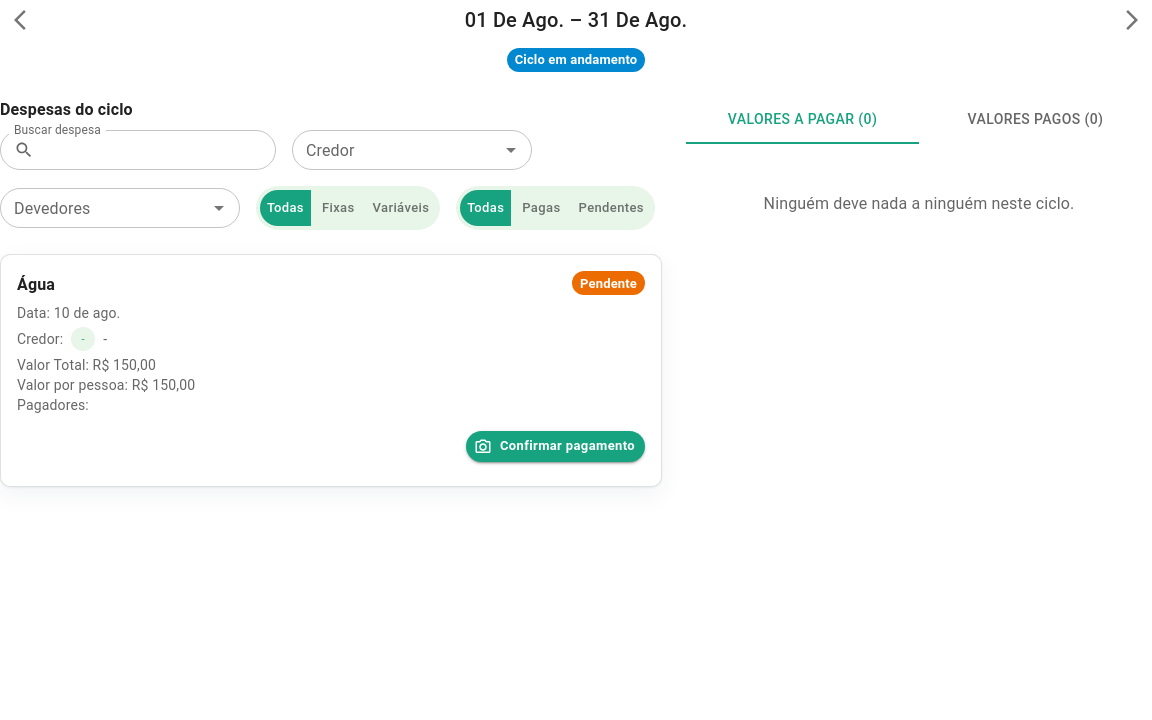
Payments › lets the creditor confirm with only a note and posts it as JSON
This screenshot has width=1152, height=720.
Click the button "Confirmar pagamento" at (555, 447), box [466,431,645,462]
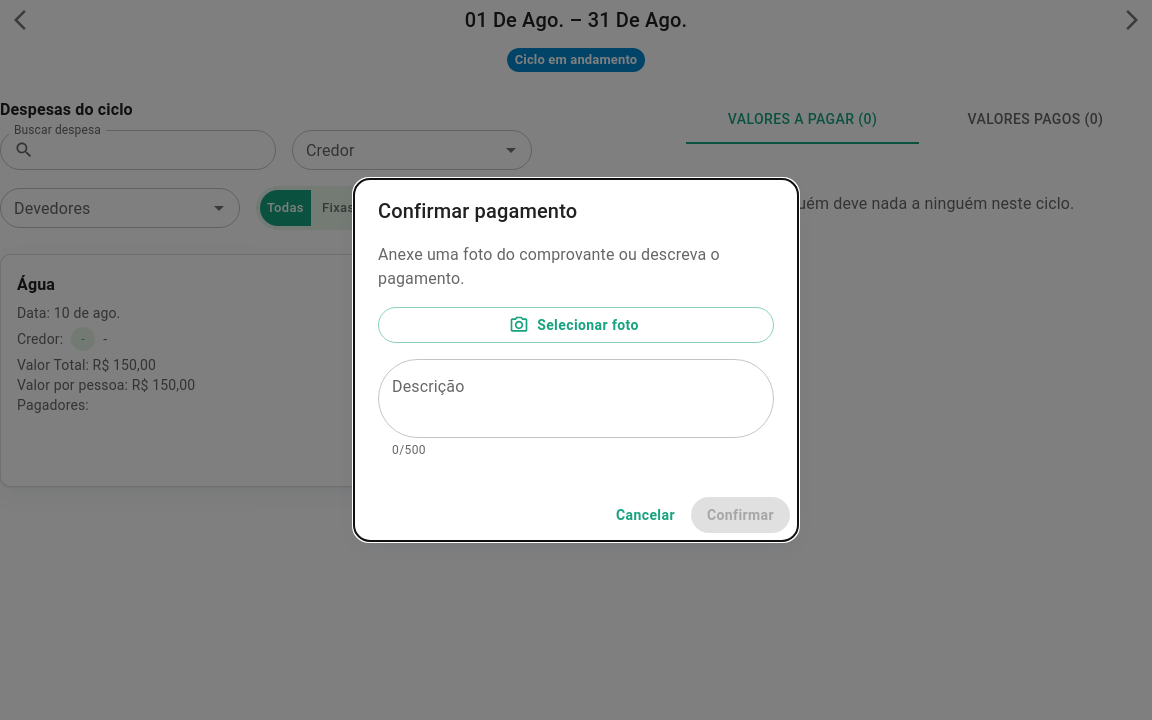
Expected: the button "Confirmar" is disabled, [691,497,790,534]
Type "Pago em dinheiro, recibo 123" into the text box labelled "Descrição" at (576, 398), box [392,376,760,422]
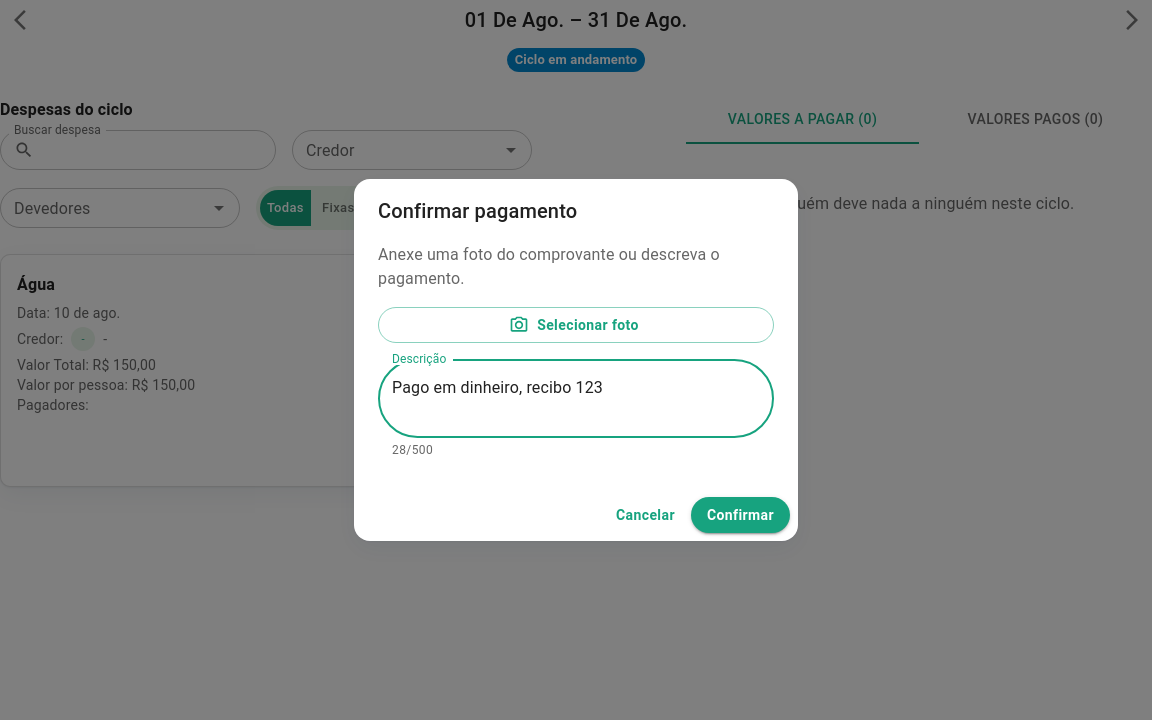
Expected: the button "Confirmar" is enabled
Click the button "Confirmar" at (740, 515), box [691,497,790,534]
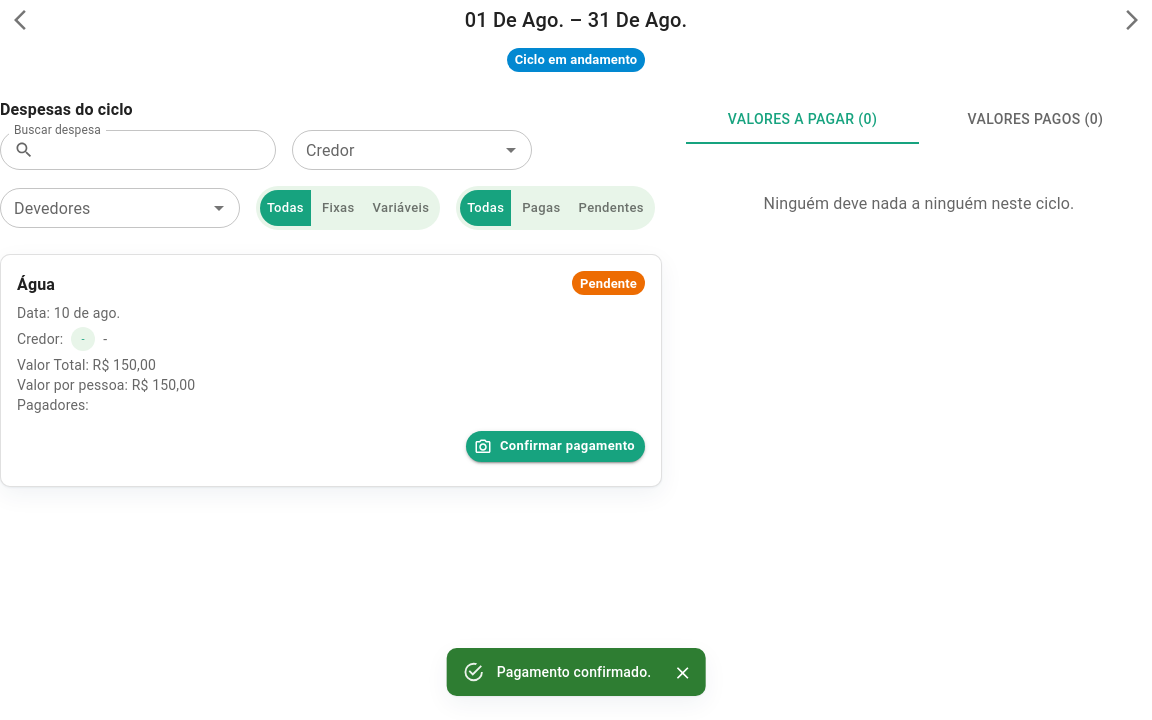
Expected: the text "Pagamento confirmado." is shown, [497,664,651,680]
